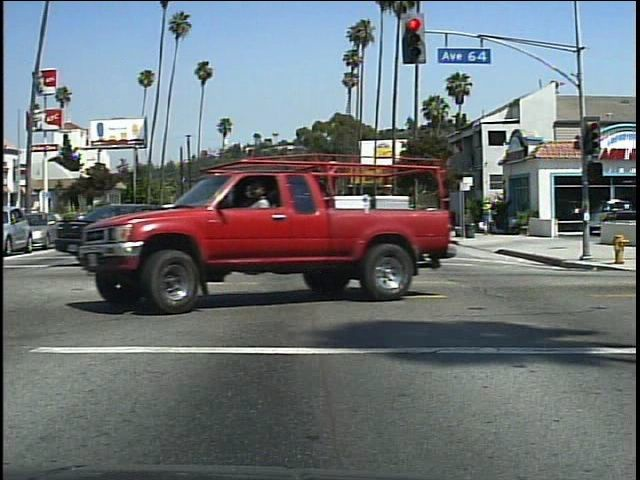person: (245, 176, 286, 298), (481, 200, 496, 236)
